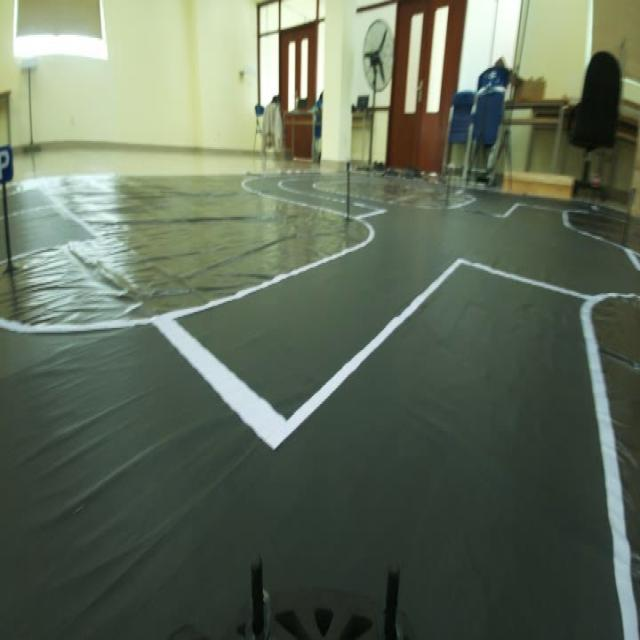parking: (0, 138, 12, 181)
